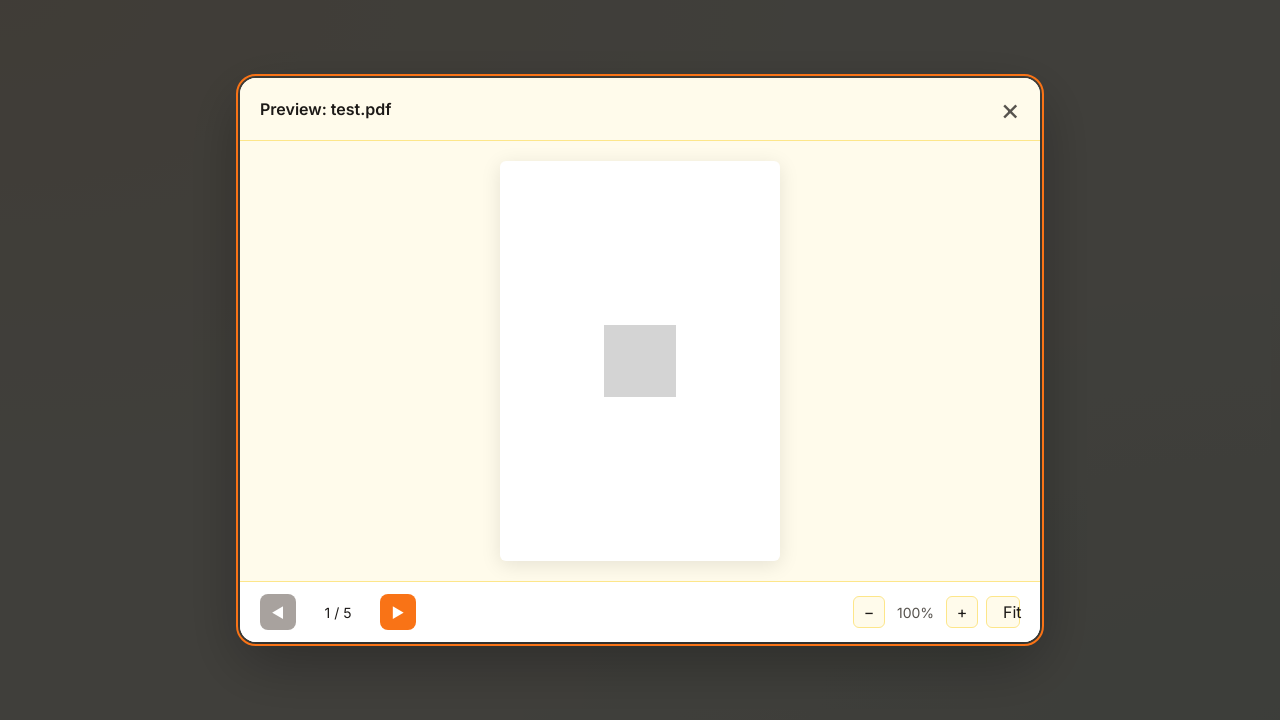
Test: PreviewModal › clicking next page button navigates forward
This screenshot has width=1280, height=720.
expect the text "1 / 5" is shown: met, box [324,604,351,620]
Click the button named "Next page": click(398, 612) [380,594,416,630]
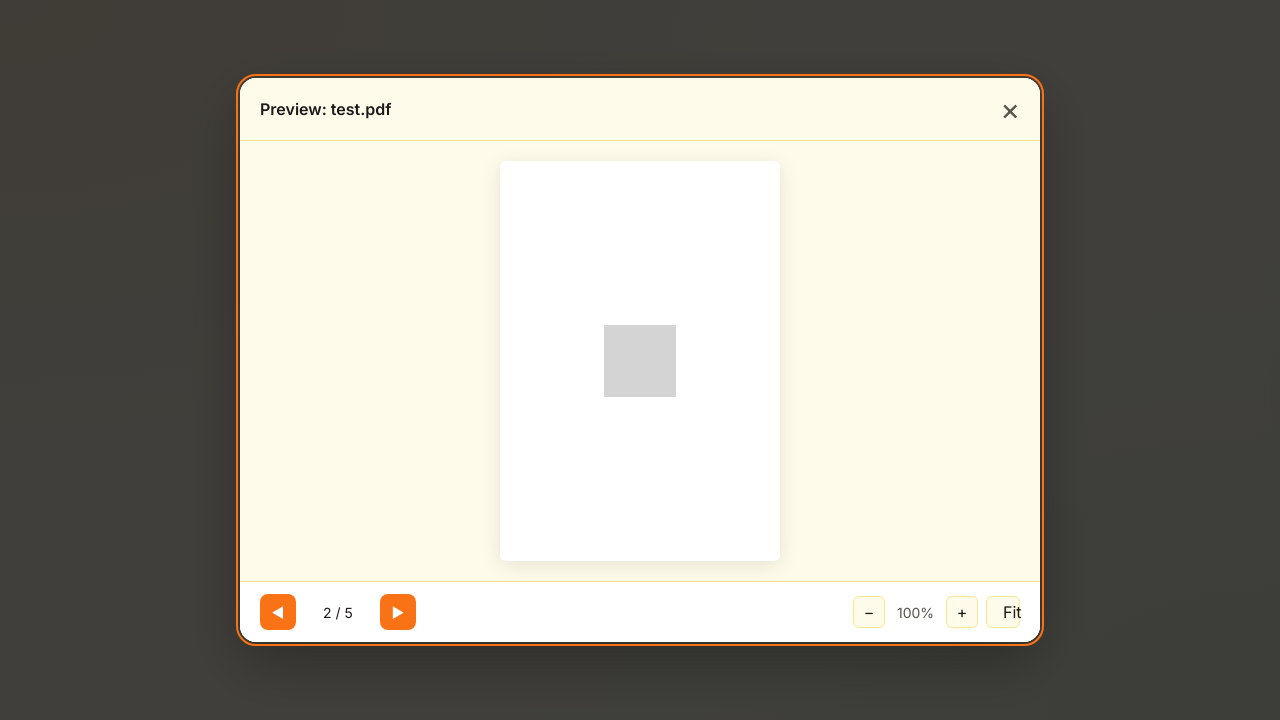
expect the text "2 / 5" is shown: met, box [323,604,353,620]
